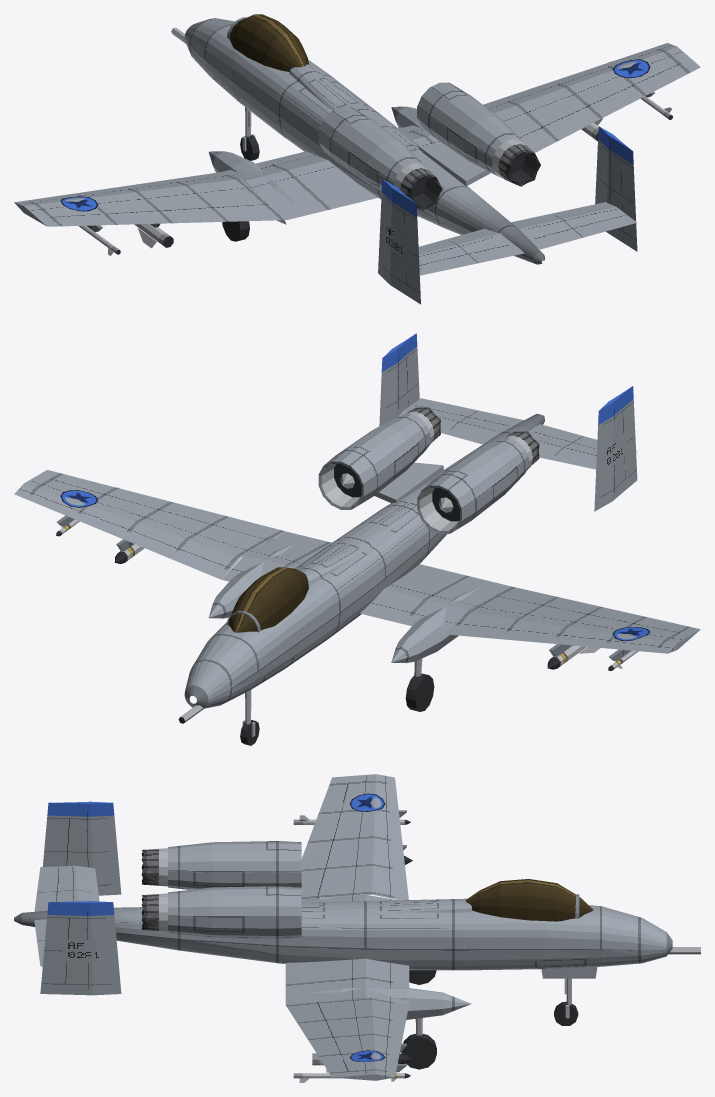
3 renders of one model, top to bottom at view 1: azimuth 30°, elevation 25°; view 2: azimuth 150°, elevation 25°; view 3: azimuth 270°, elevation 25°, orthographic. The views are drawn at different scales.
Visible parts, largest first — view 1: airframe, canopy, flap_l, aileron_r, flap_r, aileron_l, stab_r, stab_l, rudder_l, rudder_r, gear_nose, msl_2 (+1 smaller); view 2: airframe, canopy, flap_r, aileron_r, flap_l, gear_main_l, aileron_l, stab_r, rudder_l; view 3: airframe, canopy, rudder_r, aileron_l, flap_l, rudder_l, gear_main_r, flap_r, aileron_r, stab_l, gear_nose, door_nose.
Boxes of the visible parts, x1,y1,x2,y2 form: airframe: (14,18,700,304); canopy: (227,14,308,71); flap_l: (161,204,282,223); aileron_r: (586,64,688,119); flap_r: (520,106,599,152); aileron_l: (52,210,174,226); stab_r: (534,215,633,247); stab_l: (419,245,518,274); rudder_l: (404,212,420,292); rudder_r: (621,159,636,239); gear_nose: (240,107,259,160); msl_2: (134,224,173,248); airframe: (14,333,700,723); canopy: (227,567,308,632); flap_r: (161,502,282,542); aileron_r: (52,473,173,510); flap_l: (497,587,599,613); gear_main_l: (405,658,434,711); aileron_l: (586,606,688,632); stab_r: (415,399,518,425); rudder_l: (623,401,636,478); airframe: (14,774,700,1080); canopy: (465,879,593,921); rudder_r: (41,917,69,983); aileron_l: (307,783,348,843); flap_l: (301,841,333,900); rudder_l: (42,817,69,866); gear_main_r: (401,1018,436,1069); flap_r: (286,1003,333,1038); aileron_r: (307,1036,348,1072); stab_l: (34,867,58,910); gear_nose: (554,978,578,1025); door_nose: (541,967,597,978).
Size of the model in its own units: 17.52 by 4.7 by 16.95.
Materials: 6 (6 with a texture image).
